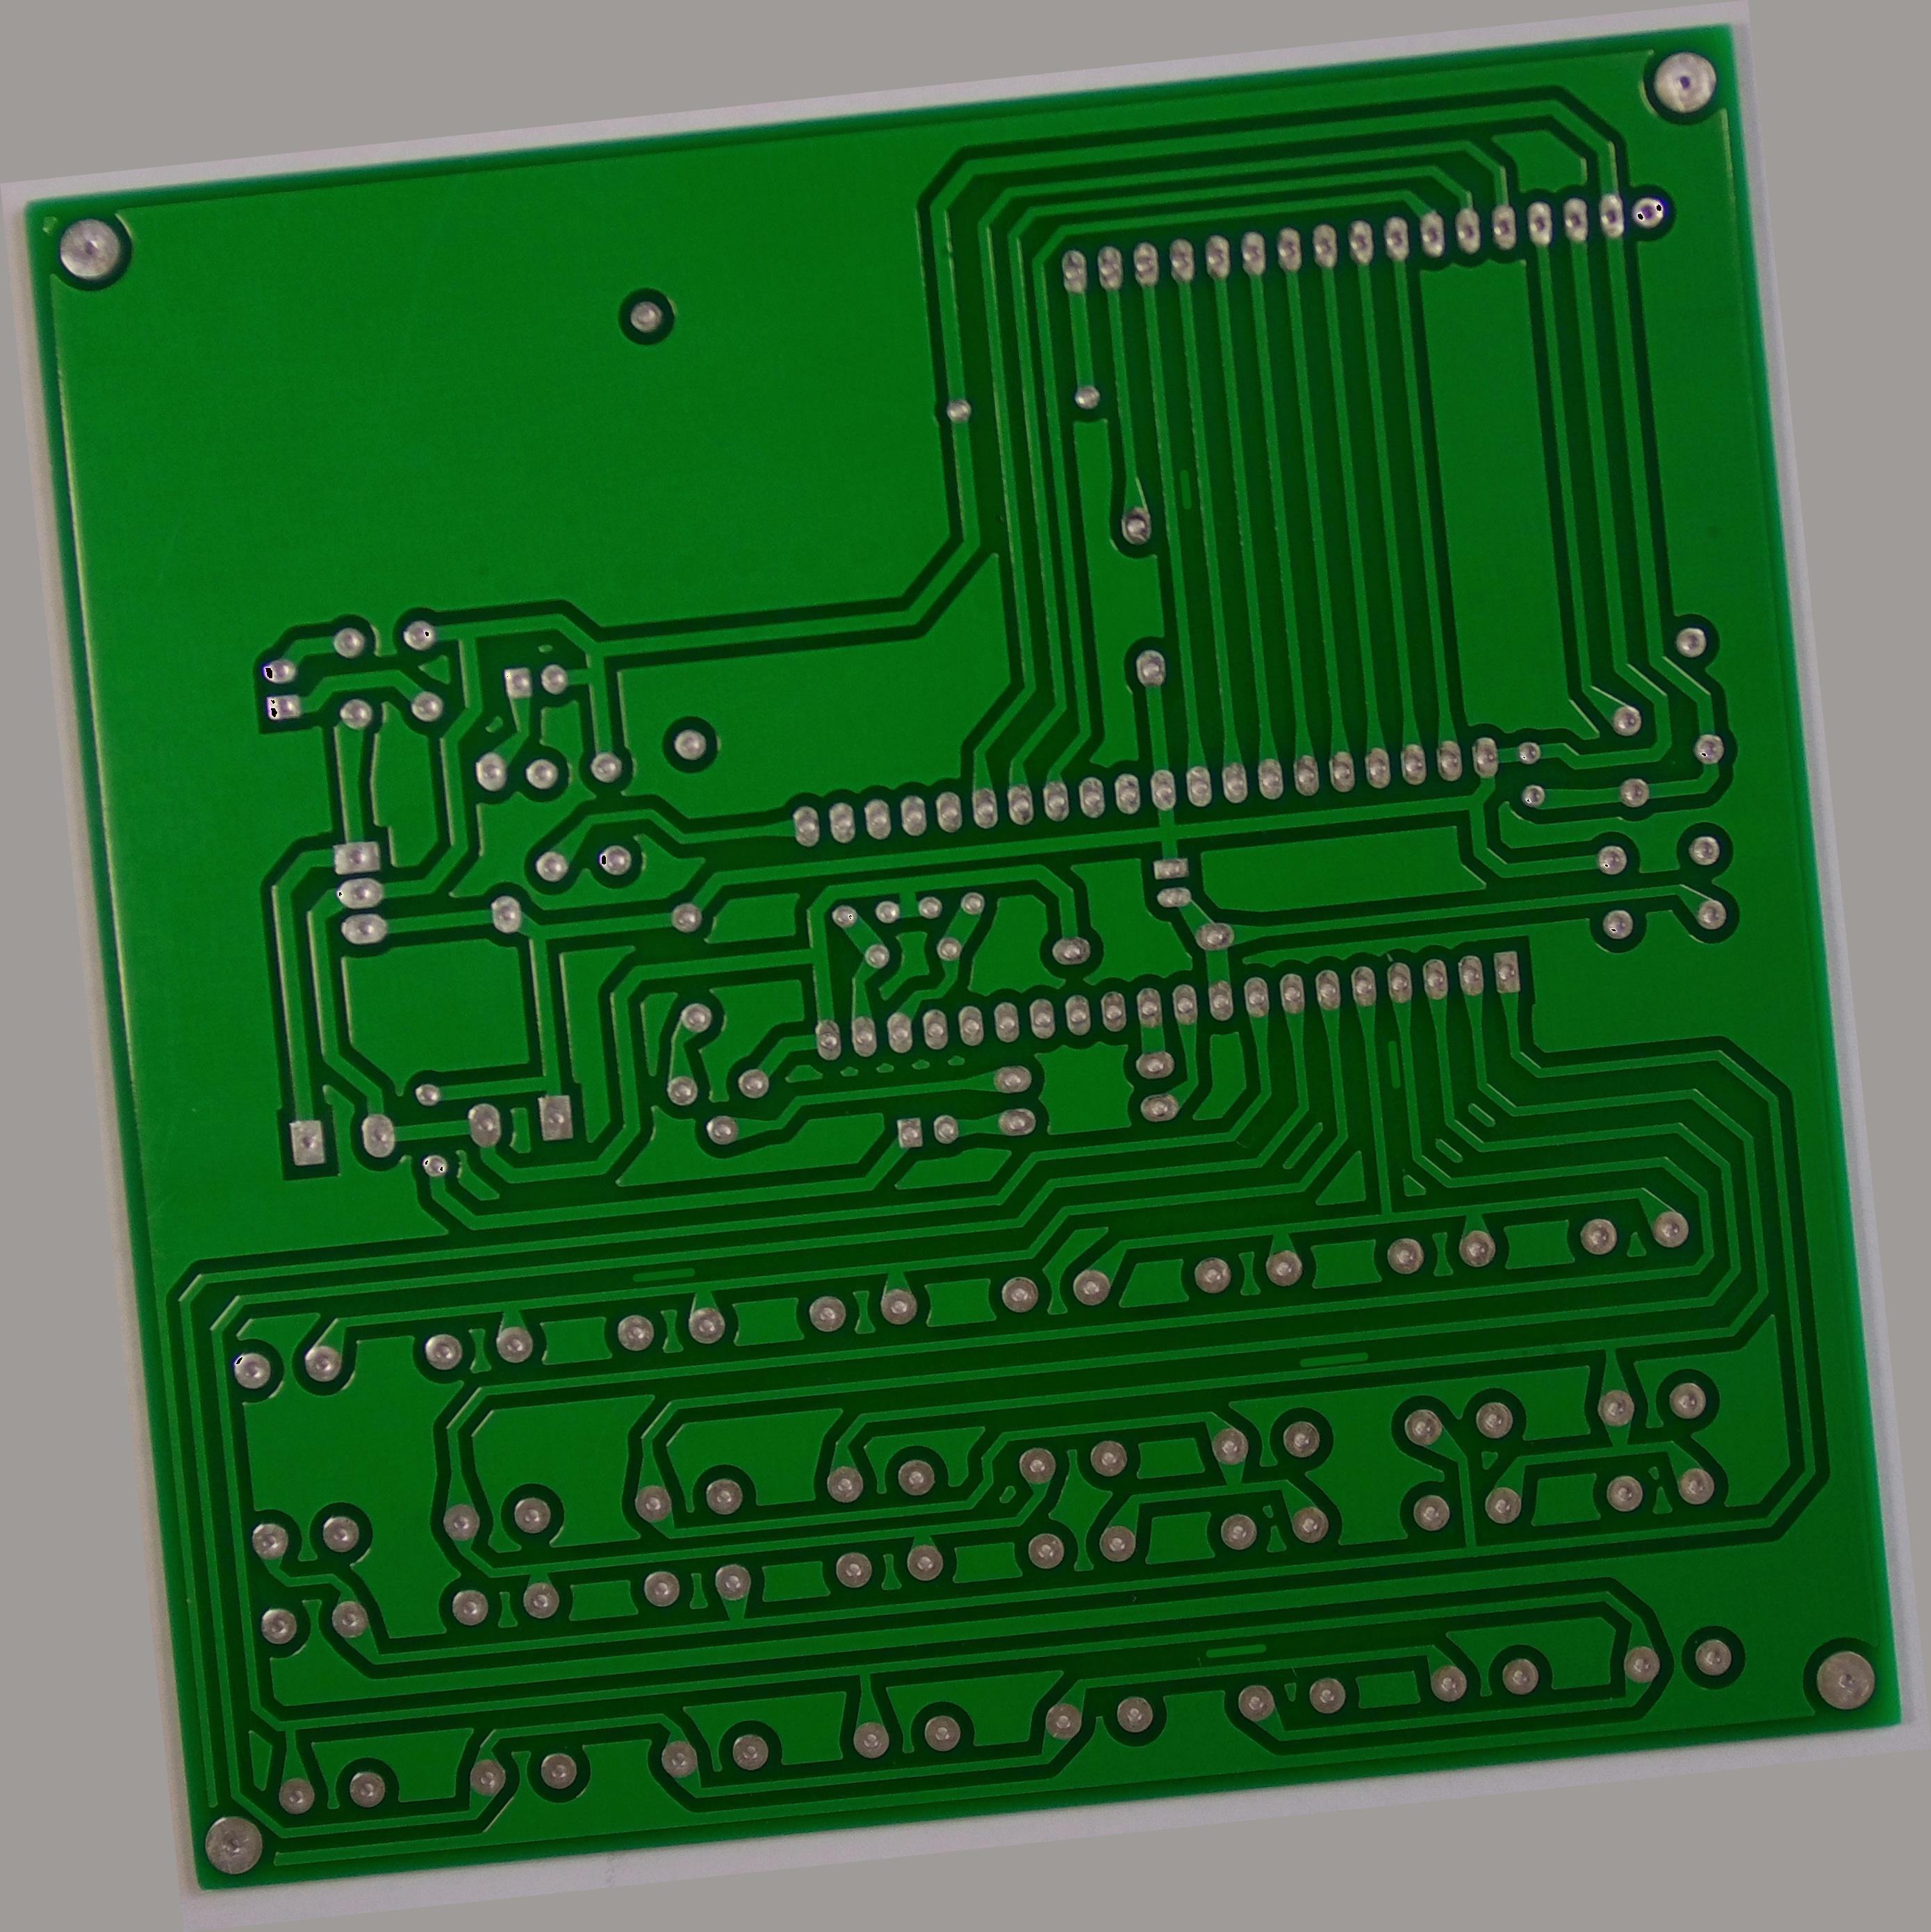spurious_copper: (1286, 1338, 1376, 1380), (1194, 1631, 1278, 1672), (621, 1254, 704, 1293), (1376, 1028, 1409, 1100), (1167, 460, 1208, 517)
